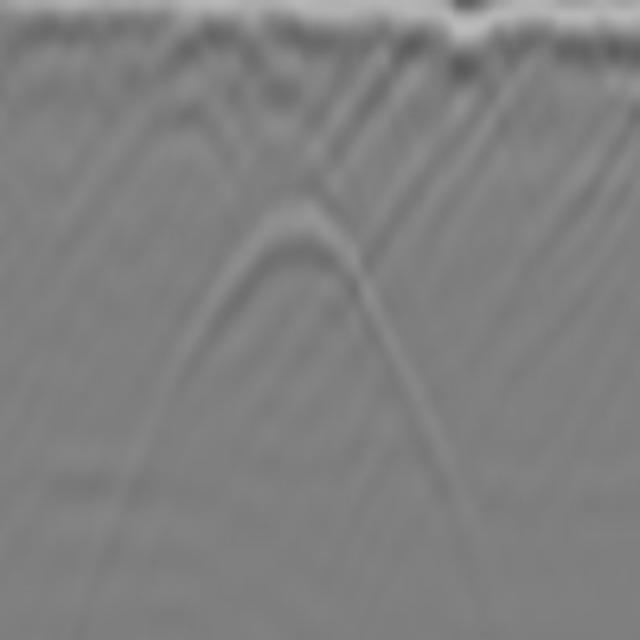hyperbola: (172, 186, 397, 420)
